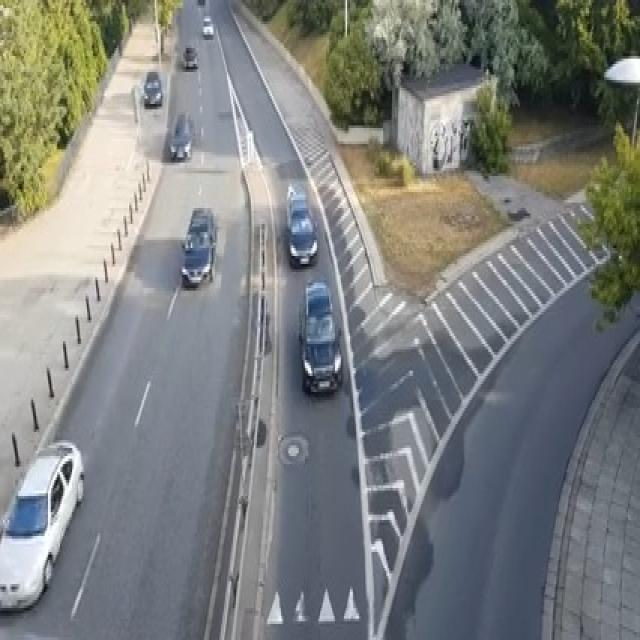car: (0, 437, 84, 611), (298, 280, 342, 395), (180, 206, 217, 286), (285, 178, 317, 266), (168, 112, 194, 160), (143, 69, 162, 107), (182, 46, 197, 70), (202, 13, 214, 38), (196, 0, 204, 5)
